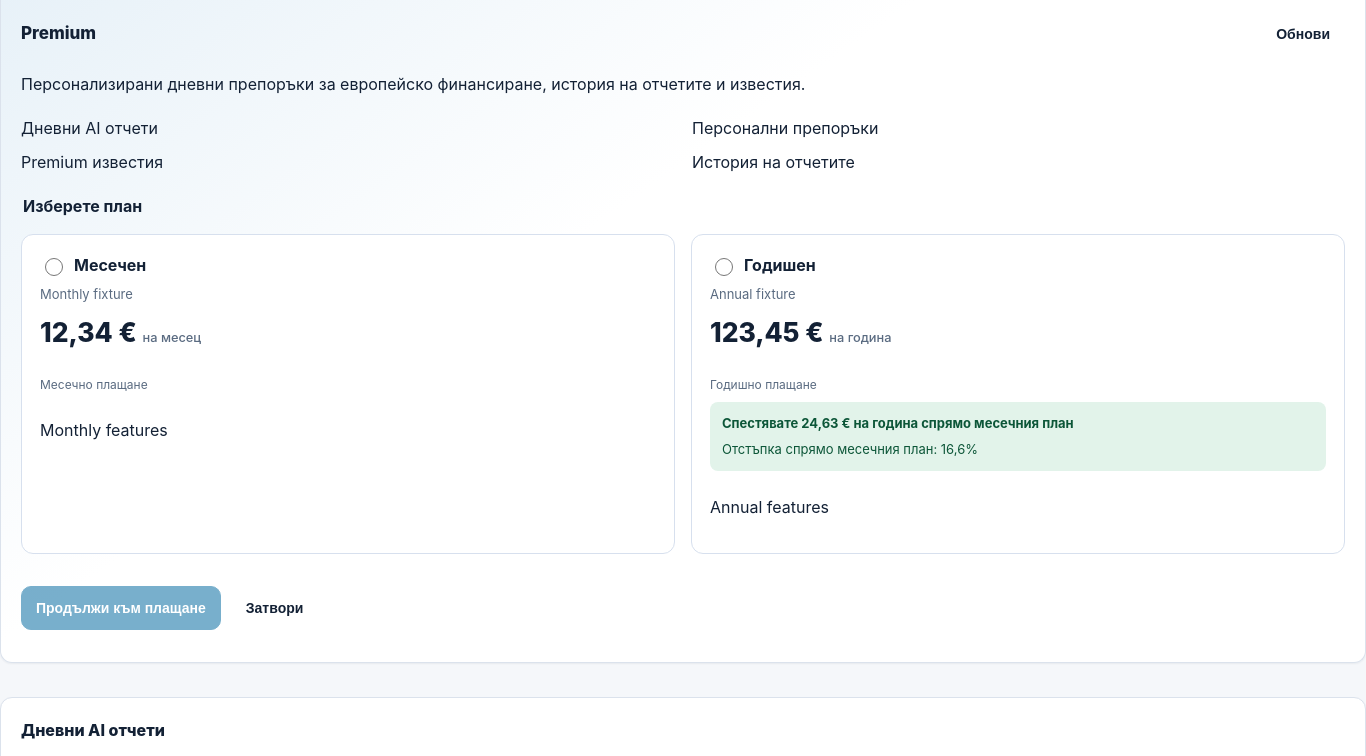
Test case: free users see dynamic plans and Premium report CTA without fetching reports
This screenshot has width=1366, height=756.
Expected: the text "Monthly fixture" is shown, [40, 286, 133, 302]
Expected: the text "Annual fixture" is shown, [710, 286, 796, 302]
Click the 2nd radio button.
click(724, 266)  # box [715, 258, 733, 276]
(page scrolled)
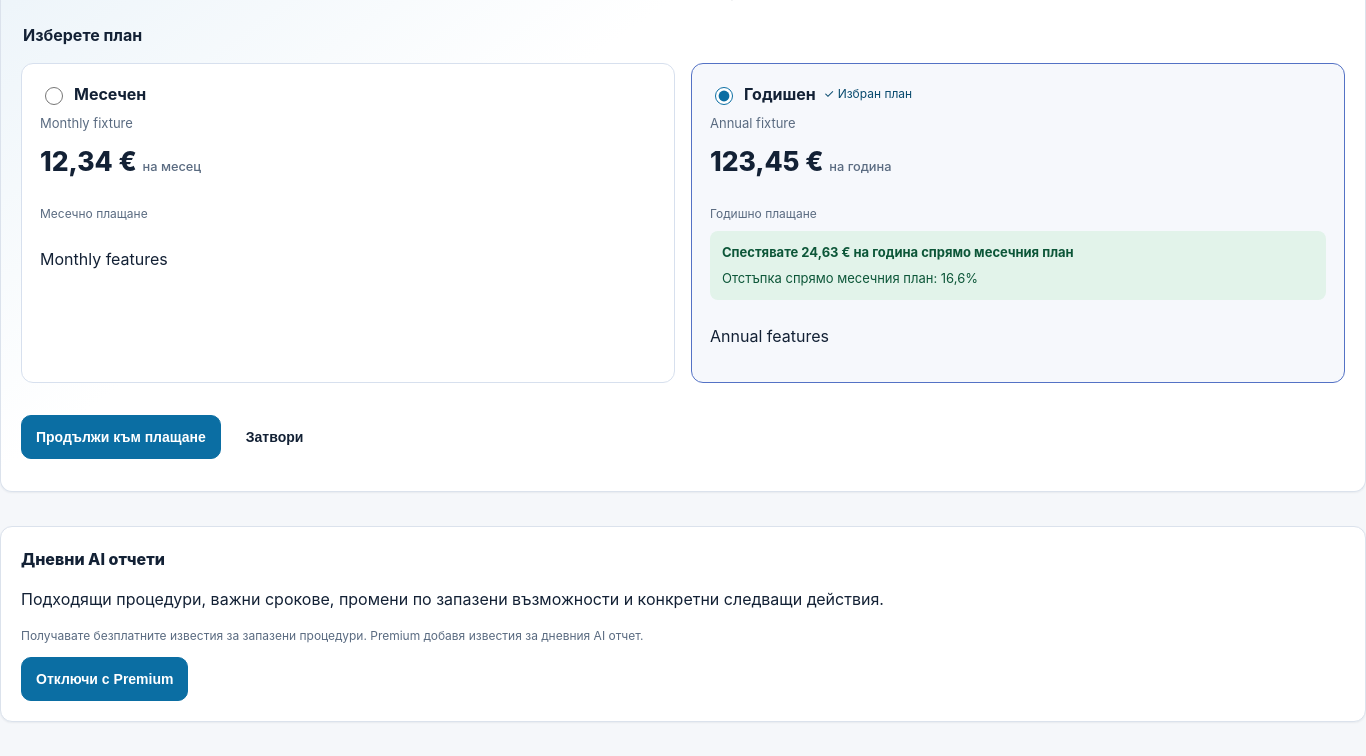
Expected: the button "Отключи с Premium" is shown, [21, 657, 188, 701]
Result: the button "Продължи към плащане" is enabled at [21, 415, 221, 459]
